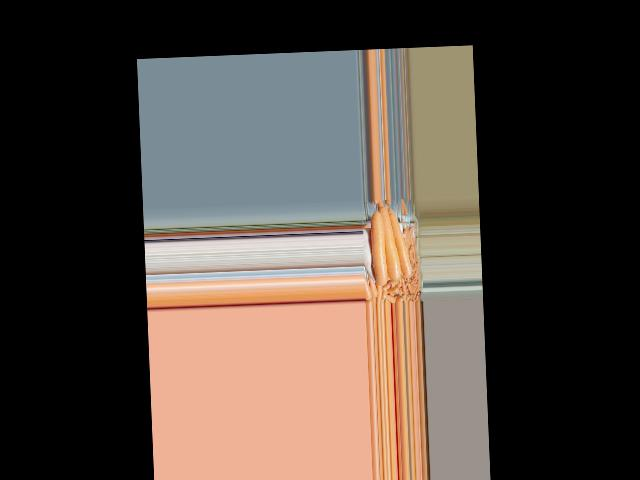carrot: (370, 208, 392, 287)
